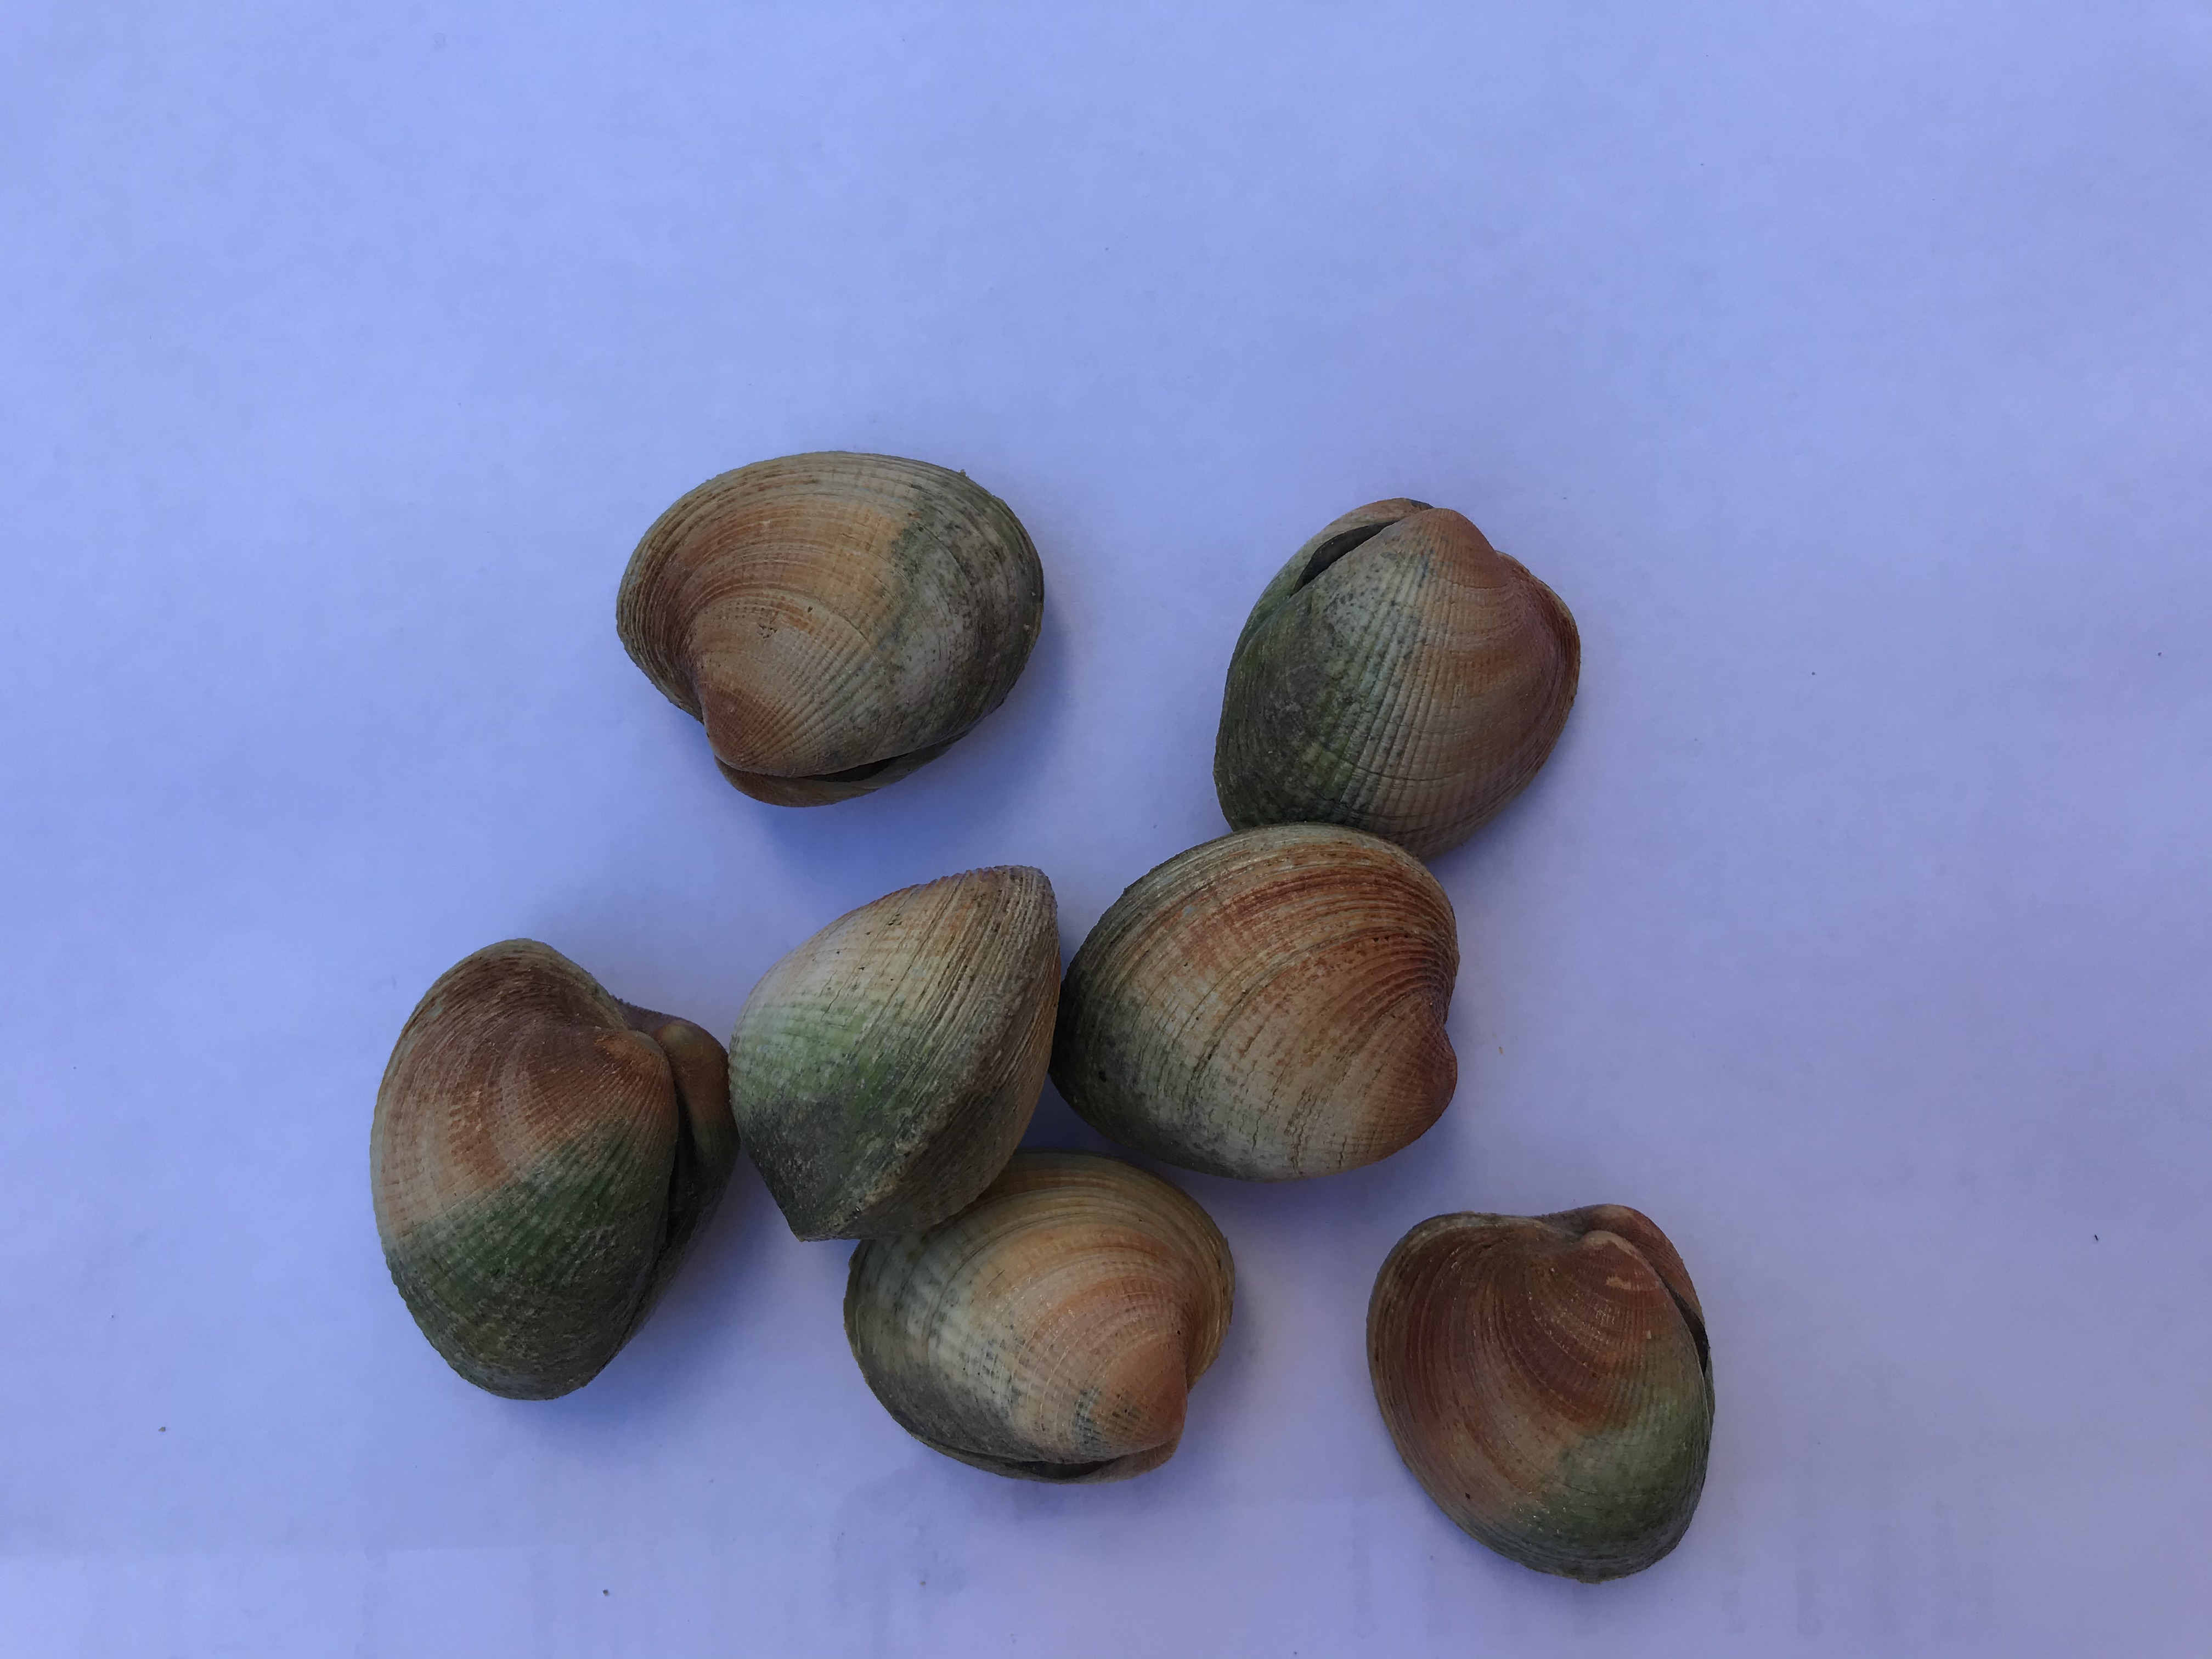cockle: (366, 934, 737, 1408), (610, 444, 1050, 810), (1040, 821, 1472, 1187), (1211, 491, 1587, 873), (1364, 1202, 1724, 1589), (841, 1145, 1238, 1486), (730, 863, 1064, 1244)
